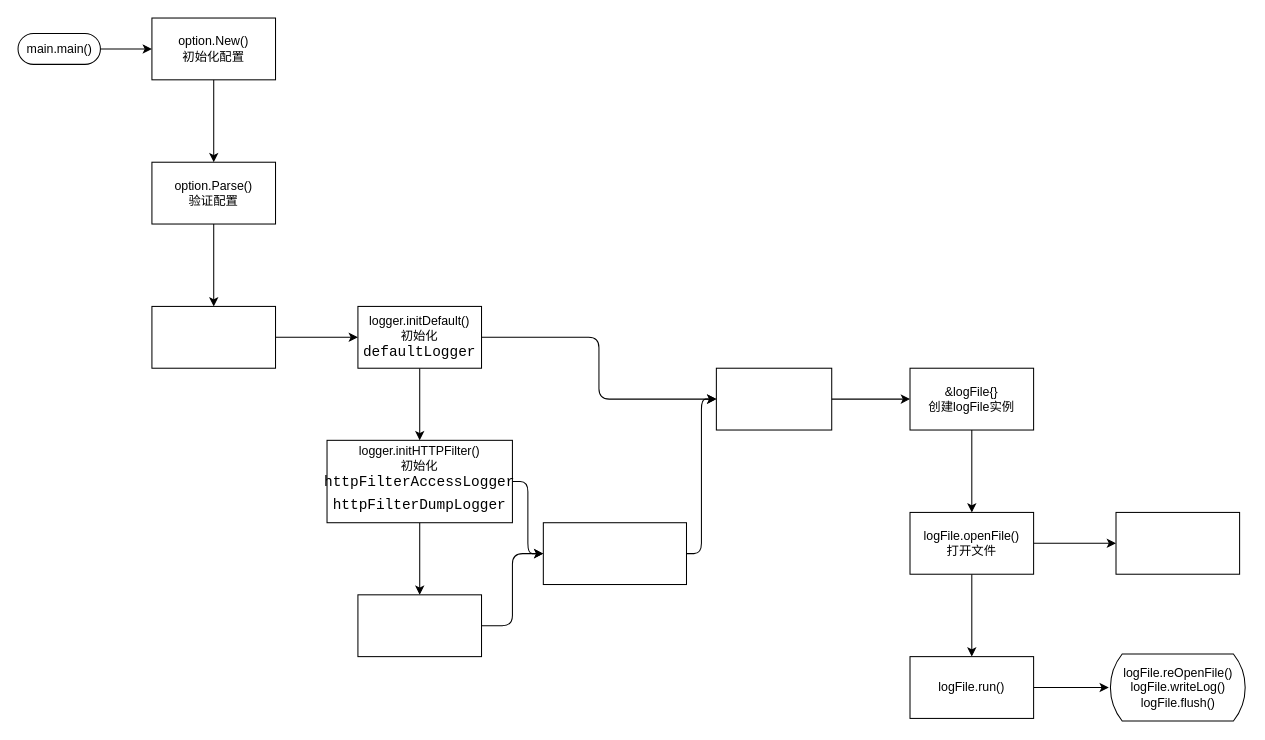
The diagram is 1265 pixels wide and 740 high, and some of its shapes have lost their labels. Each missing label, with the centre of its shape:
logger.Init() 初始化logger: (213,336)
logger.initRestAPI() 初始化 restAPILogger: (419,625)
logger.newLogFile(): (773,398)
logger.newPlainLogger(): (614,553)
os.OpenFile(): (1177,542)
